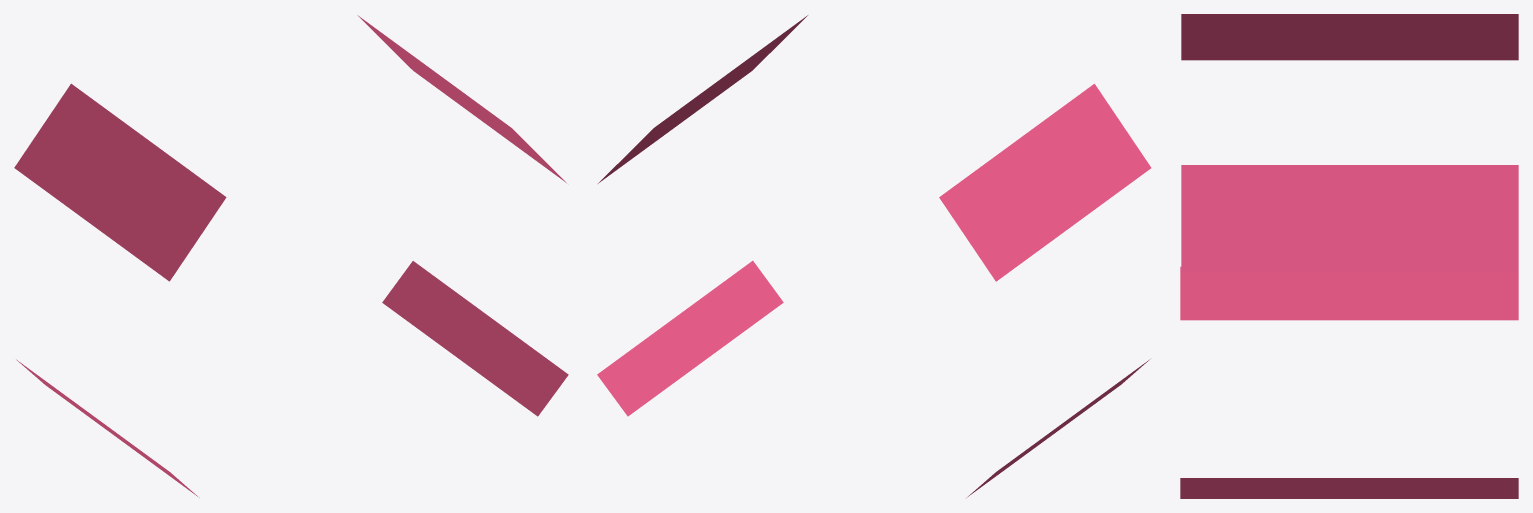
Rendered from Corridor_part_grills.fbx.
3 renders of one model, left to right at view 1: azimuth 30°, elevation 25°; view 2: azimuth 150°, elevation 25°; view 3: azimuth 270°, elevation 25°, orthographic. The views are drawn at different scales.
Parts seen in each view (by area): view 1: Corridor_part_grills; view 2: Corridor_part_grills; view 3: Corridor_part_grills.
Part boxes in pixels (<box>): Corridor_part_grills: <box>14,15,568,497</box>; Corridor_part_grills: <box>597,15,1151,497</box>; Corridor_part_grills: <box>1180,14,1518,498</box>.
Bounding box in the file's own units: 563 × 398 × 381.
